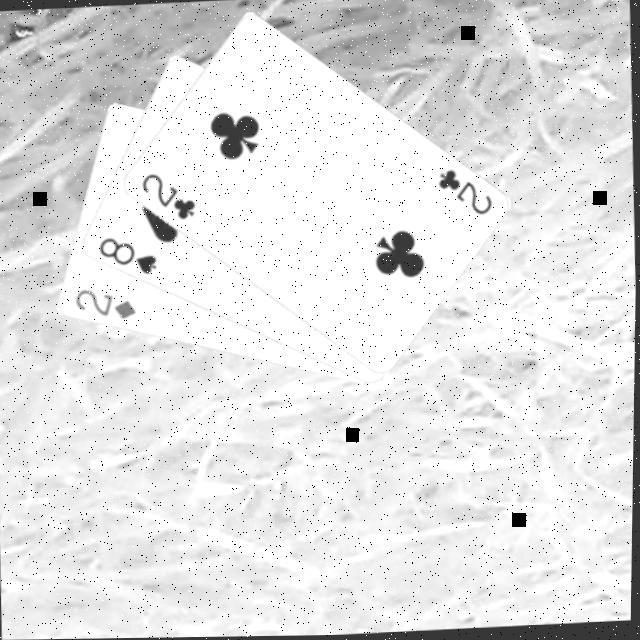2C: (138, 168, 201, 228), (434, 165, 499, 223)
2D: (73, 286, 142, 326)
8S: (95, 233, 164, 282)
